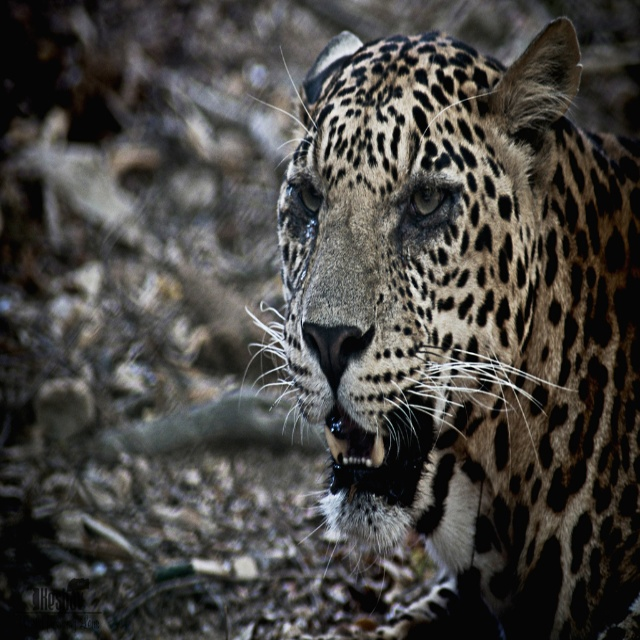Jaguar: (237, 19, 640, 639)
